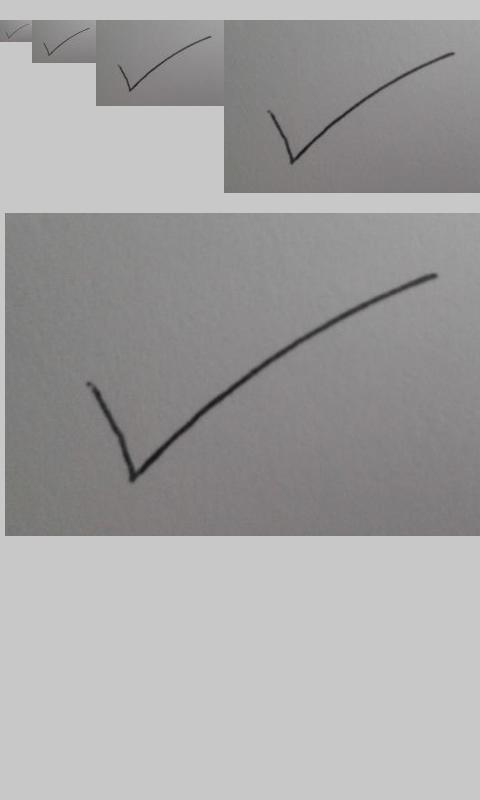check_box: (86, 273, 437, 484), (267, 52, 455, 166), (118, 36, 213, 92), (43, 28, 90, 56), (6, 24, 29, 39)
